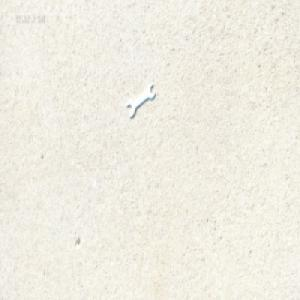Wrench: (126, 82, 157, 118)
